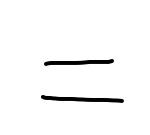eqv: (41, 58, 125, 105)
